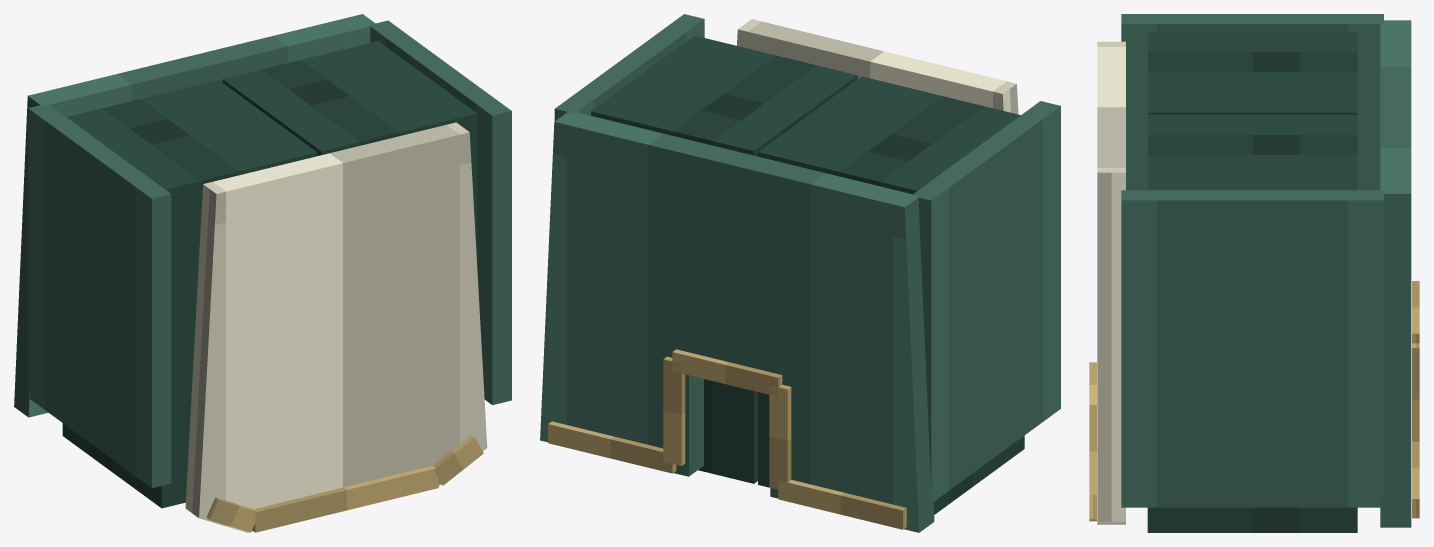
The model's file is zhuji_yuheng_yizhuang_leggings.obj.
3 renders of one model, left to right at view 1: azimuth 30°, elevation 25°; view 2: azimuth 150°, elevation 25°; view 3: azimuth 270°, elevation 25°, orthographic. The views are drawn at different scales.
Visible parts, largest first — view 1: yuheng_front_hem, yuheng_side_hem_-1, yuheng_pants_-1, yuheng_pants_1, yuheng_back_hem, yuheng_side_hem_1, yuheng_front_hem_edge_1, yuheng_front_hem_edge_2, yuheng_front_hem_edge_0; view 2: yuheng_back_hem, yuheng_side_hem_-1, yuheng_pants_1, yuheng_pants_-1, yuheng_front_hem, yuheng_side_hem_1, yuheng_back_hem_edge_0, yuheng_back_hem_edge_4, yuheng_back_hem_edge_2, yuheng_back_hem_edge_3, yuheng_back_hem_edge_1; view 3: yuheng_side_hem_1, yuheng_pants_1, yuheng_pants_-1, yuheng_back_hem, yuheng_front_hem, yuheng_side_hem_-1, yuheng_back_hem_edge_3, yuheng_front_hem_edge_1, yuheng_back_hem_edge_4, yuheng_back_hem_edge_2.
Part boxes in pixels (<box>): yuheng_front_hem: <box>185,122,487,532</box>; yuheng_side_hem_-1: <box>28,104,171,488</box>; yuheng_pants_-1: <box>62,80,317,508</box>; yuheng_pants_1: <box>222,41,477,264</box>; yuheng_back_hem: <box>14,14,375,417</box>; yuheng_side_hem_1: <box>369,20,511,404</box>; yuheng_front_hem_edge_1: <box>252,465,438,532</box>; yuheng_front_hem_edge_2: <box>432,435,483,485</box>; yuheng_front_hem_edge_0: <box>206,497,257,532</box>; yuheng_back_hem: <box>540,112,934,532</box>; yuheng_side_hem_-1: <box>911,101,1060,501</box>; yuheng_pants_1: <box>591,35,857,483</box>; yuheng_pants_-1: <box>758,76,1024,514</box>; yuheng_front_hem: <box>737,19,1018,114</box>; yuheng_side_hem_1: <box>554,14,704,120</box>; yuheng_back_hem_edge_0: <box>778,480,906,529</box>; yuheng_back_hem_edge_4: <box>548,421,676,473</box>; yuheng_back_hem_edge_2: <box>672,349,782,396</box>; yuheng_back_hem_edge_3: <box>663,356,685,465</box>; yuheng_back_hem_edge_1: <box>769,384,791,489</box>; yuheng_side_hem_1: <box>1121,190,1383,507</box>; yuheng_pants_1: <box>1147,114,1357,532</box>; yuheng_pants_-1: <box>1147,32,1357,114</box>; yuheng_back_hem: <box>1380,20,1411,527</box>; yuheng_front_hem: <box>1097,41,1125,524</box>; yuheng_side_hem_-1: <box>1121,14,1383,190</box>; yuheng_back_hem_edge_3: <box>1412,343,1419,441</box>; yuheng_front_hem_edge_1: <box>1089,405,1096,494</box>; yuheng_back_hem_edge_4: <box>1412,442,1419,518</box>; yuheng_back_hem_edge_2: <box>1412,281,1419,343</box>.
Bounding box in the file's own units: 0.5813 × 0.5312 × 0.4325.
